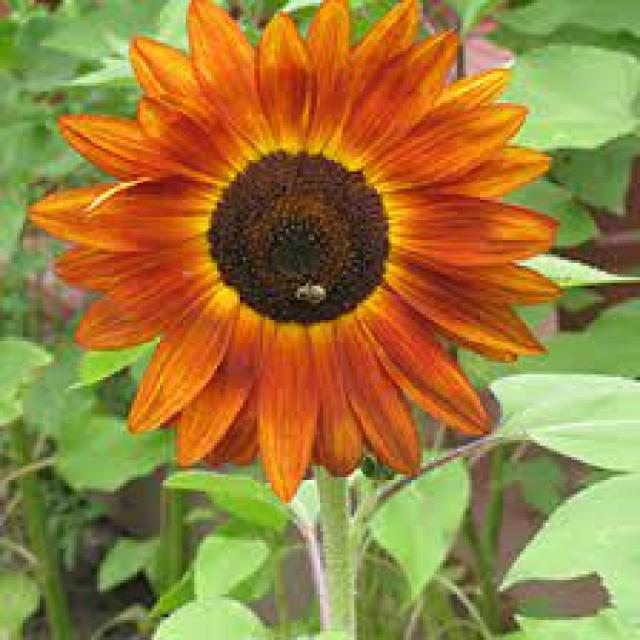sunflower: (16, 1, 579, 516)
